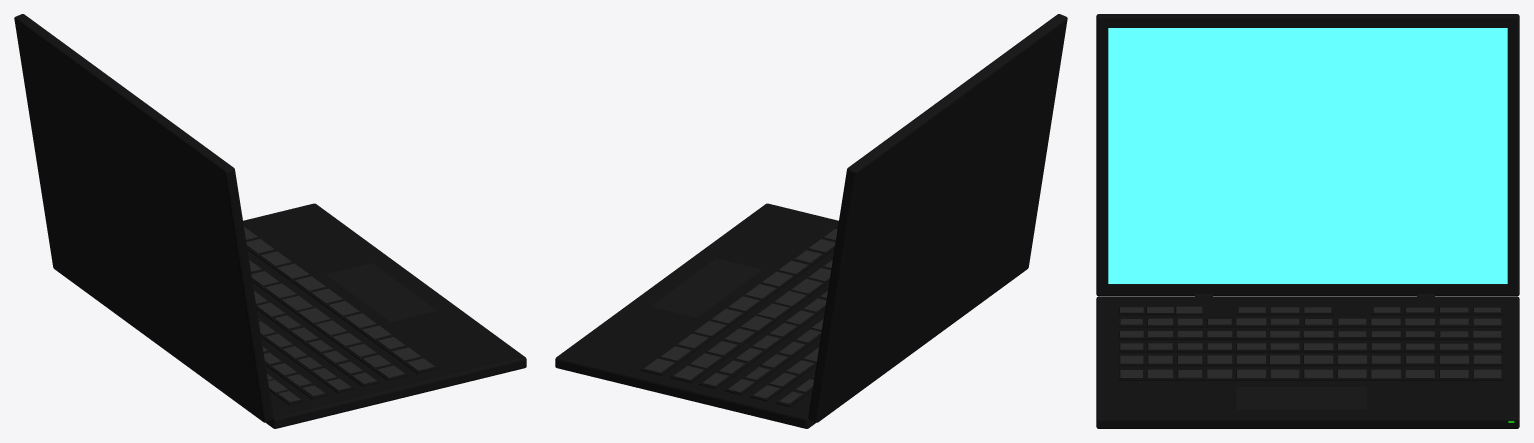
Rendered from laptop.glb.
3 renders of one model, left to right at view 1: azimuth 30°, elevation 25°; view 2: azimuth 150°, elevation 25°; view 3: azimuth 270°, elevation 25°, orthographic.
Visible parts, largest first — view 1: LaptopMontor, LaptopBase; view 2: LaptopMontor, LaptopBase; view 3: LaptopMontor, LaptopBase.
Boxes of the visible parts, x1=… form: LaptopMontor: x1=14, y1=14, x2=273, y2=422; LaptopBase: x1=243, y1=203, x2=526, y2=428; LaptopMontor: x1=808, y1=14, x2=1067, y2=422; LaptopBase: x1=555, y1=203, x2=838, y2=428; LaptopMontor: x1=1096, y1=14, x2=1519, y2=296; LaptopBase: x1=1096, y1=296, x2=1519, y2=428.
Bounding box in the file's own units: 0.4975 × 0.4275 × 0.6056.
